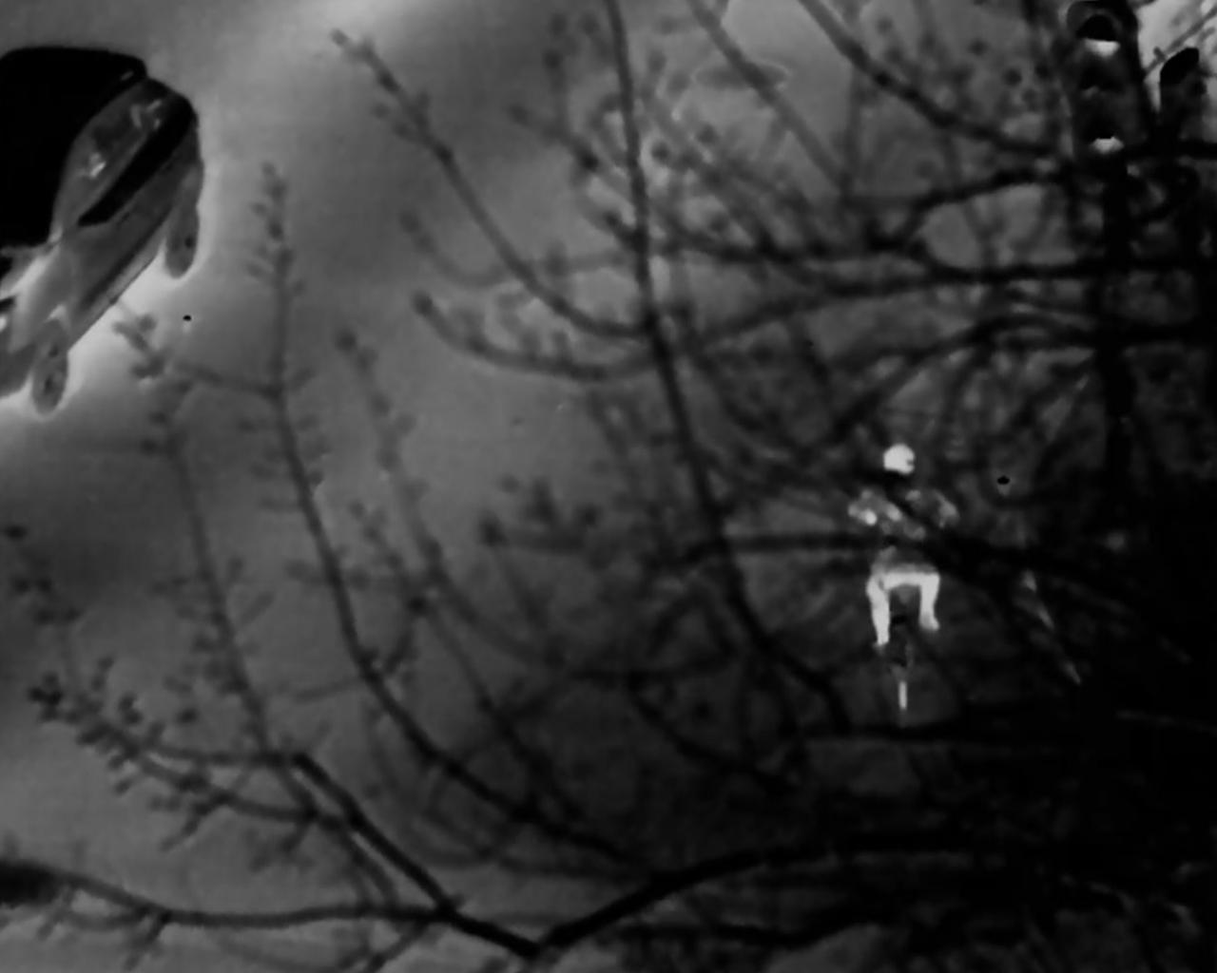person: (851, 438, 965, 673)
